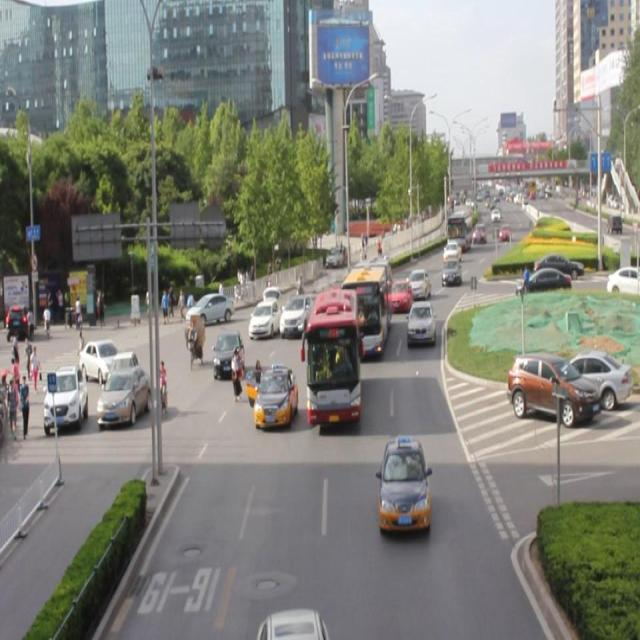car: (380, 438, 430, 530), (253, 367, 296, 428), (257, 607, 329, 640), (213, 328, 244, 378), (348, 272, 385, 313), (279, 292, 313, 336), (407, 300, 435, 348), (249, 297, 281, 338), (405, 270, 430, 301), (388, 280, 409, 311), (441, 256, 462, 286)
van: (306, 290, 361, 422), (342, 257, 388, 356)
